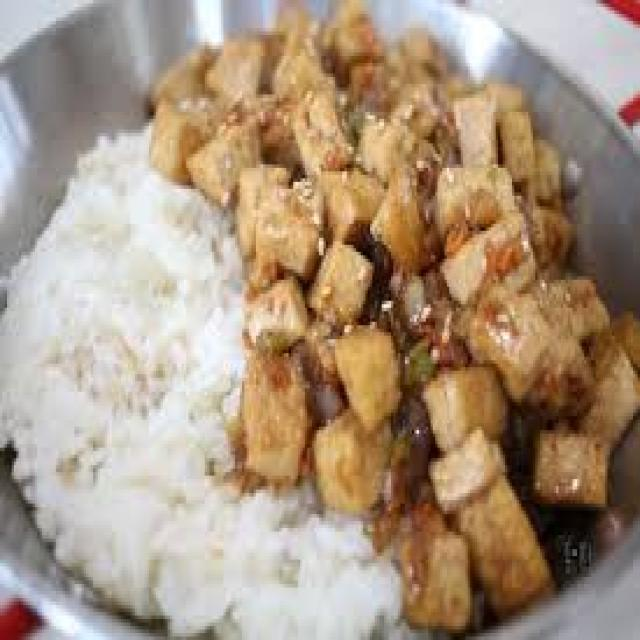tofu: (203, 25, 609, 535)
